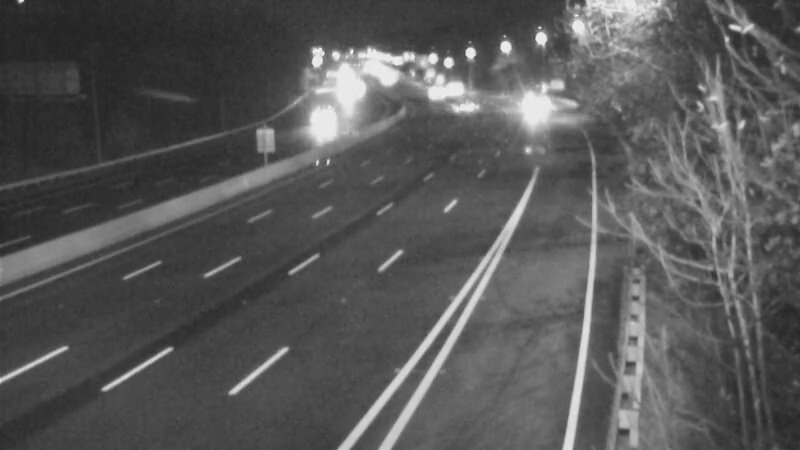vehicle: (426, 58, 476, 108), (407, 67, 457, 117), (434, 81, 484, 131), (506, 79, 556, 129), (300, 94, 350, 144)
